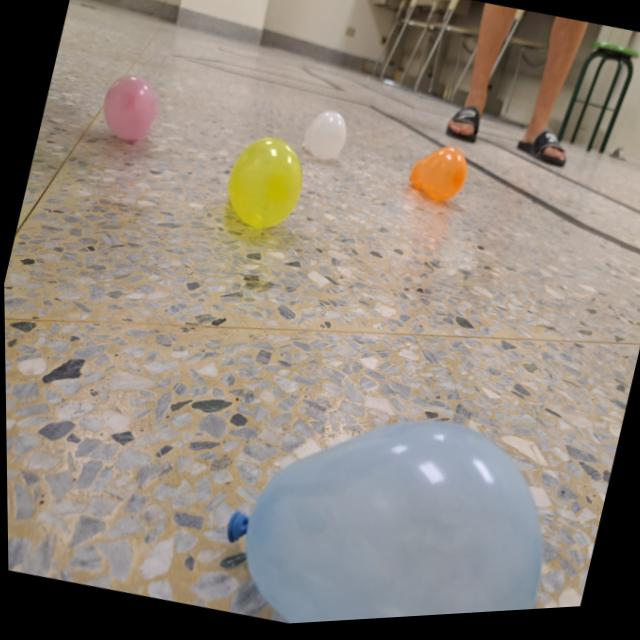other: (204, 374, 573, 631), (216, 130, 312, 242), (95, 68, 165, 151), (404, 144, 472, 212), (299, 107, 353, 170)
